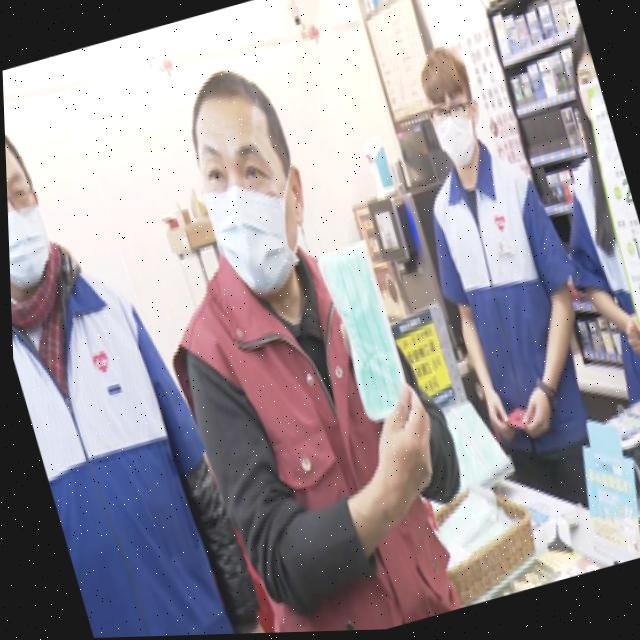Mask: (196, 152, 328, 307), (5, 188, 58, 292), (435, 116, 486, 175)
